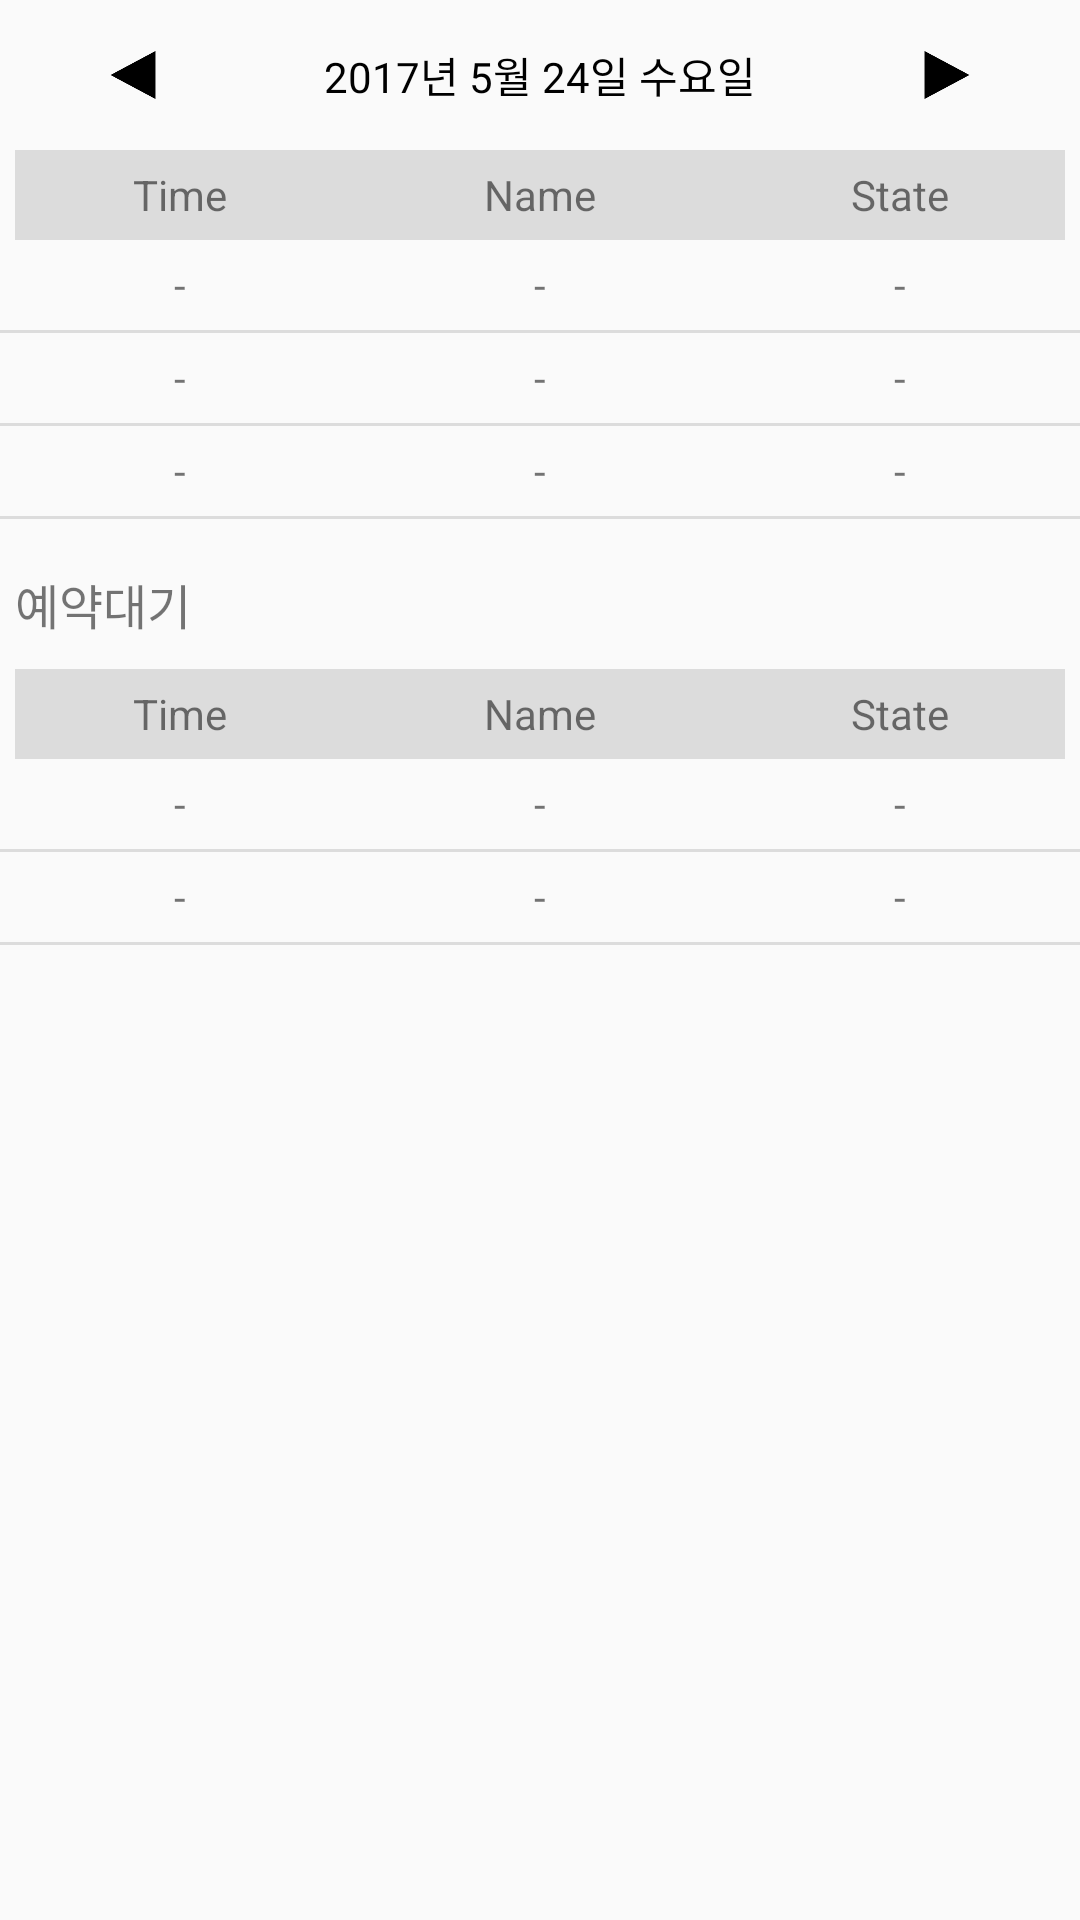

Named icons in this screenshot (1080 × 1920) and their centers, [x,y]:
left: [133,75]
right: [946,75]
